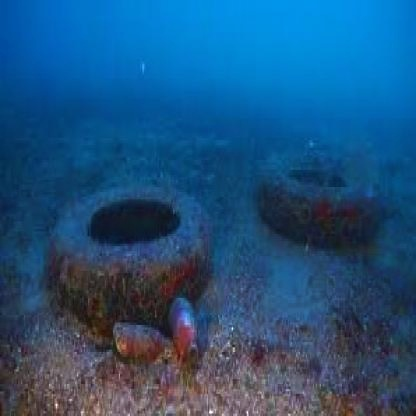tire: (51, 165, 214, 322), (261, 140, 406, 293)
